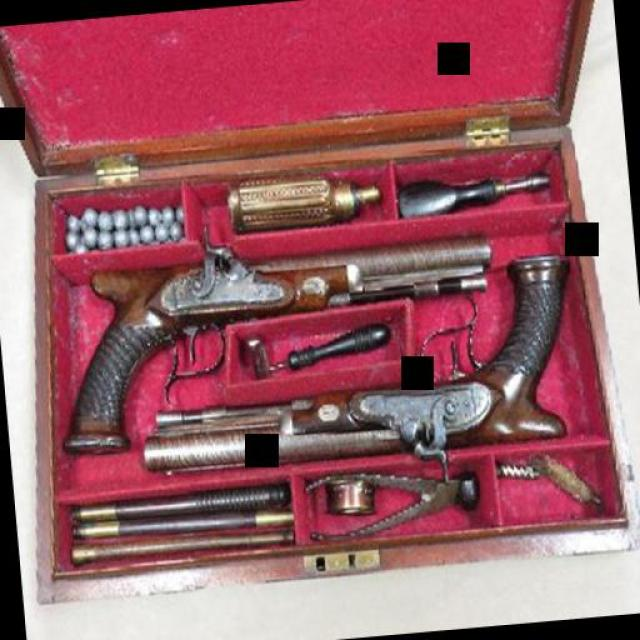gun: (41, 200, 506, 458), (125, 250, 586, 480)
